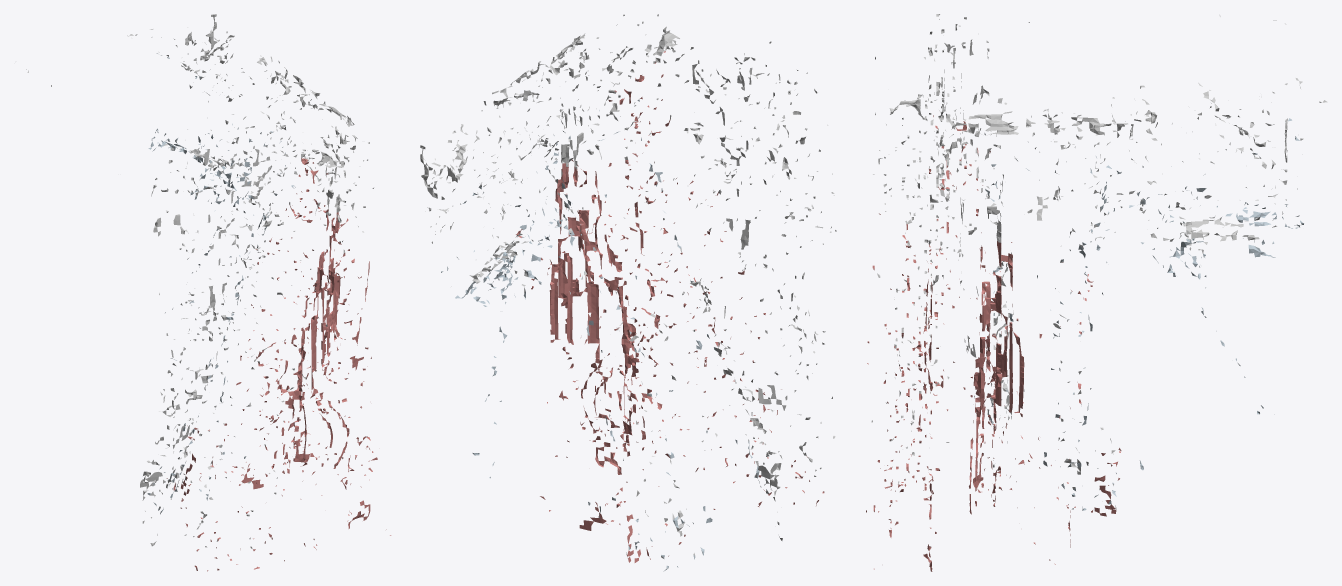
The model's file is R1-뜬면-2__lt_dynnow_ALS_s0__removed.glb.
3 views of the same model, side by side, from view 1: azimuth 30°, elevation 25°; view 2: azimuth 150°, elevation 25°; view 3: azimuth 270°, elevation 25° (orthographic). The views are drawn at different scales.
Size of the model in its own units: 18.23 by 35.46 by 32.28.
